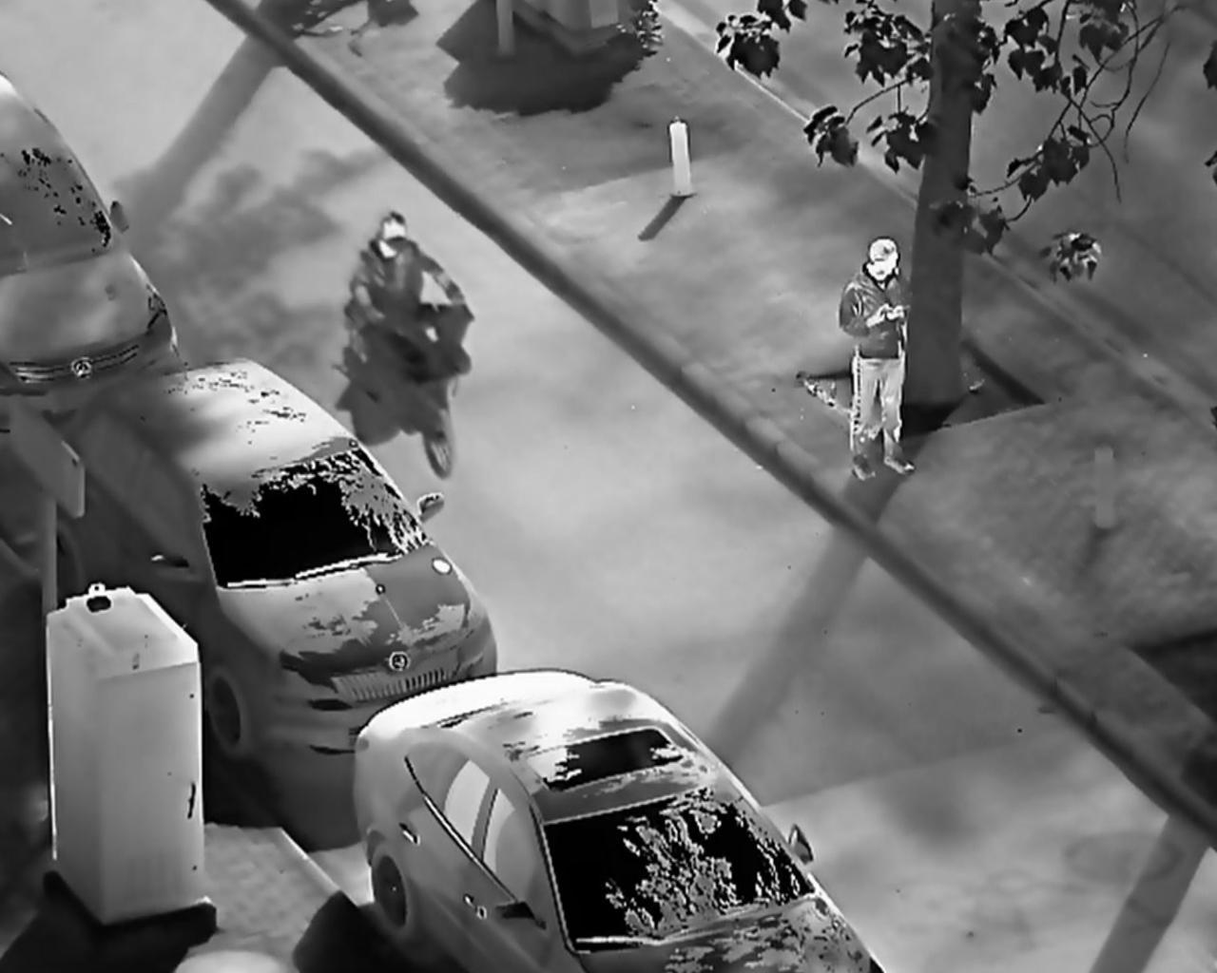person: (837, 236, 923, 482), (350, 207, 477, 350)
